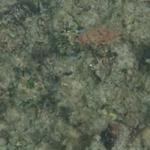dead: (5, 3, 143, 146)
